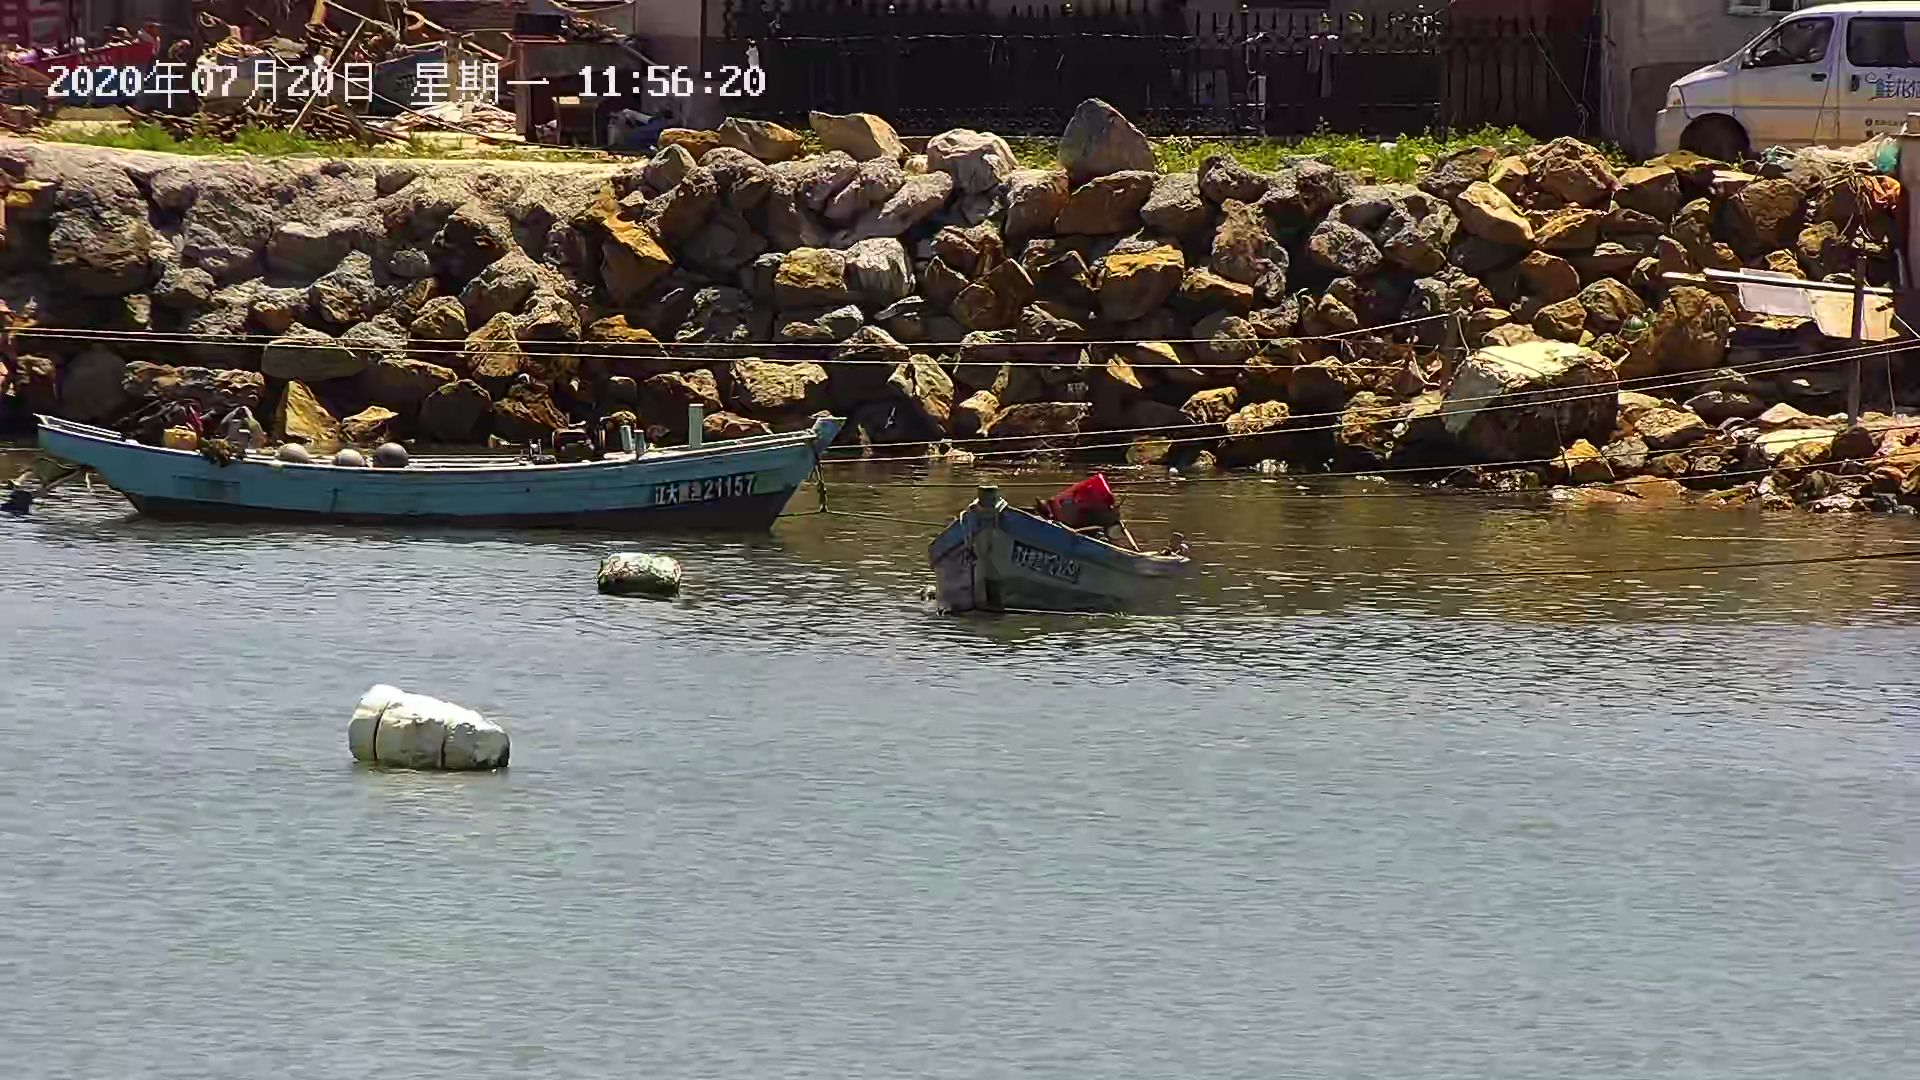boat: (33, 402, 843, 530), (930, 464, 1212, 618)
rock: (4, 127, 1920, 524)
rubbish: (330, 682, 518, 781), (601, 553, 692, 595)
